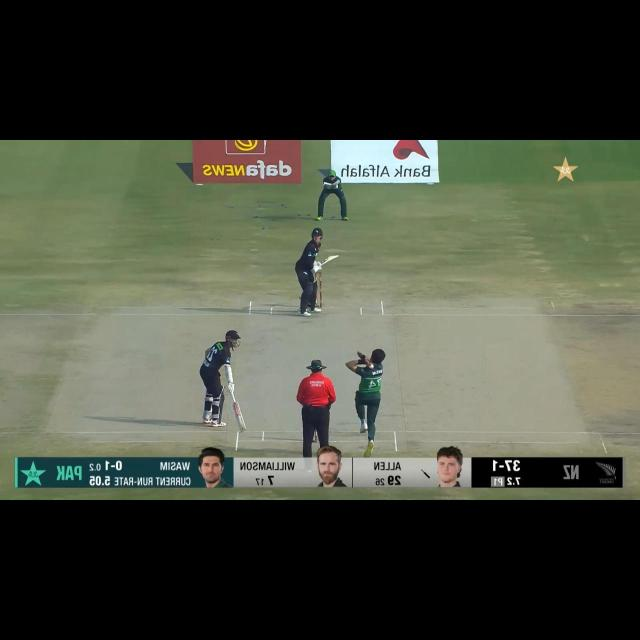bat: (232, 402, 248, 433), (321, 254, 339, 264)
toe: (236, 422, 246, 432), (332, 254, 339, 259)
